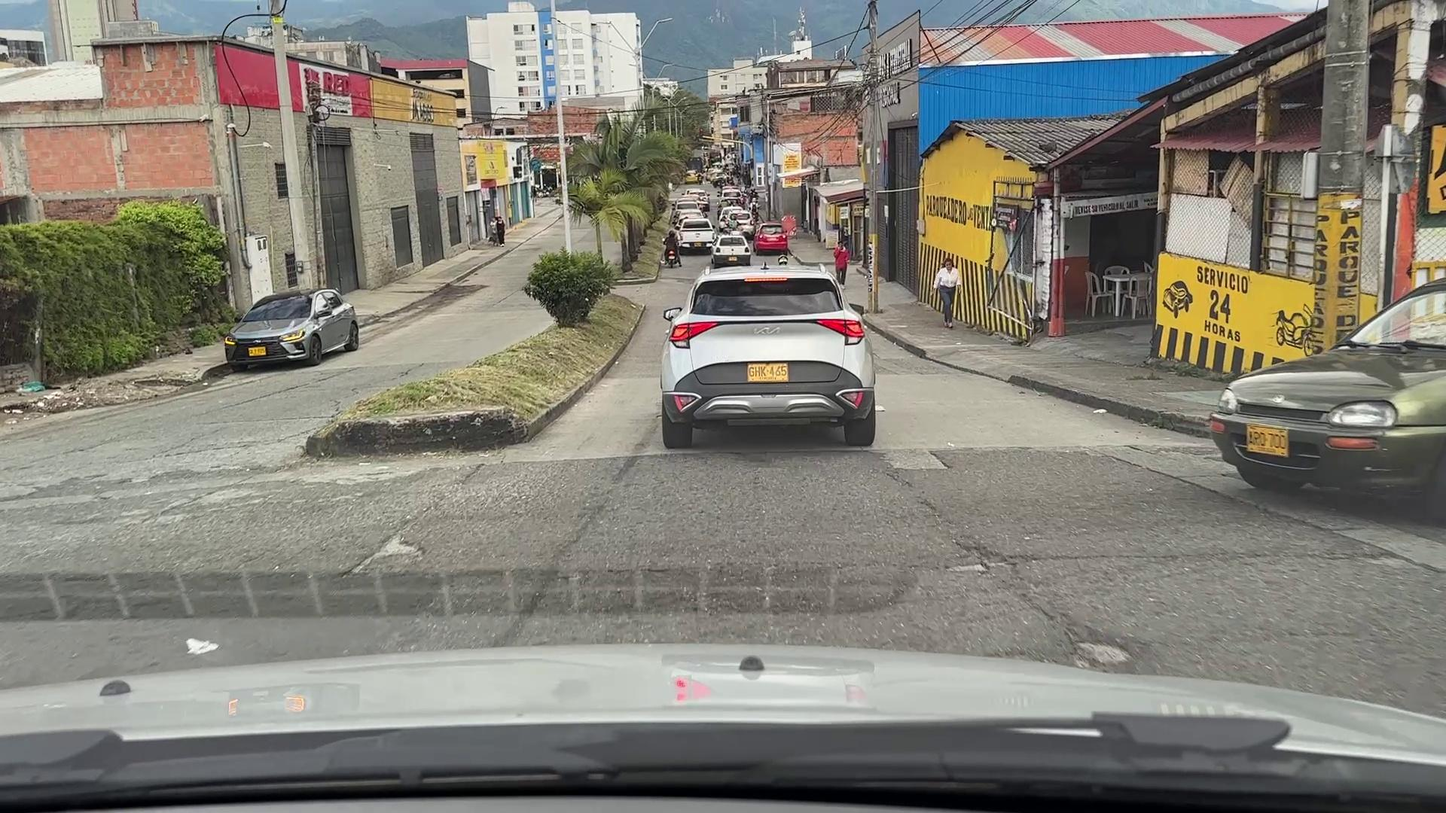bache: (358, 533, 420, 569), (1078, 643, 1129, 663), (950, 564, 987, 571)
